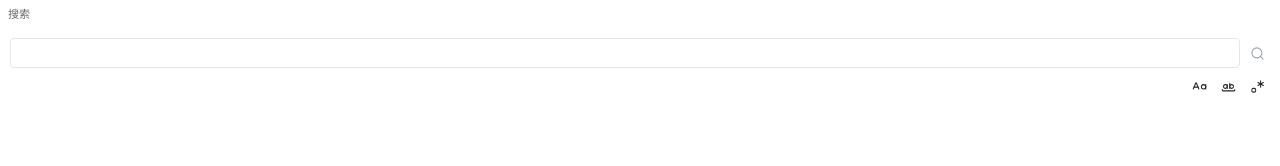
Scenario: shows a partial search when large files are excluded and rejects invalid regular expressions
In the field named "搜索工作区内容": point(625, 53) [10, 38, 1240, 68], type "needle"
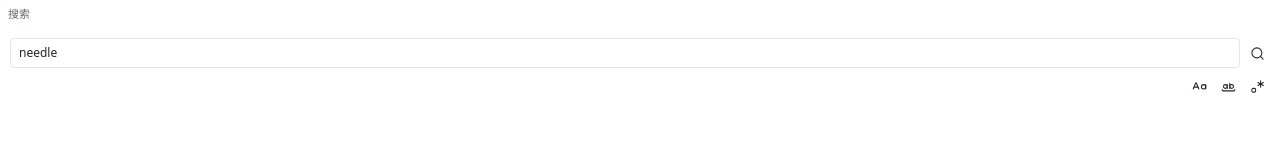
Click the button named "搜索": point(1257, 53) [1244, 40, 1270, 66]
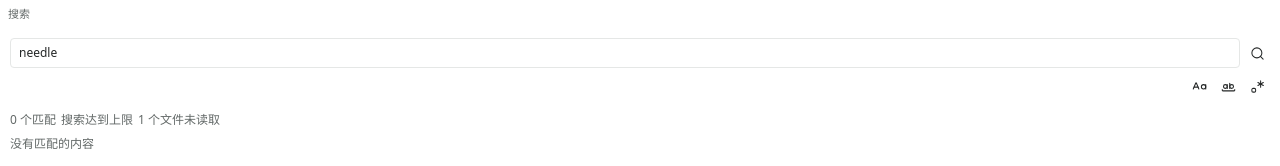
Now the text "1 个文件未读取" is shown, box [138, 110, 220, 129]
Click the button named "正则表达式": point(1257, 86) [1244, 73, 1270, 99]
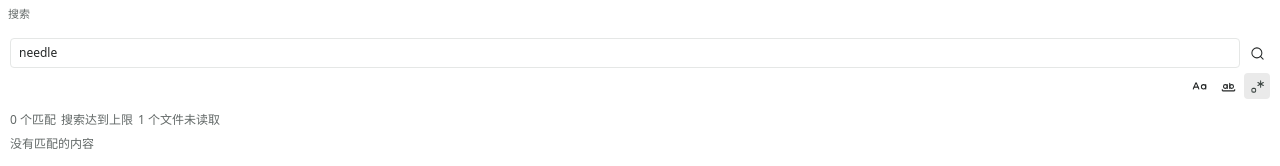
Replace the text in the field named "搜索工作区内容" with "[": point(625, 53) [10, 38, 1240, 68]
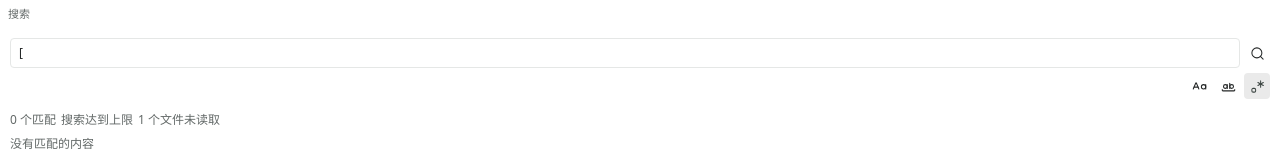
Click the button named "搜索": point(1257, 53) [1244, 40, 1270, 66]
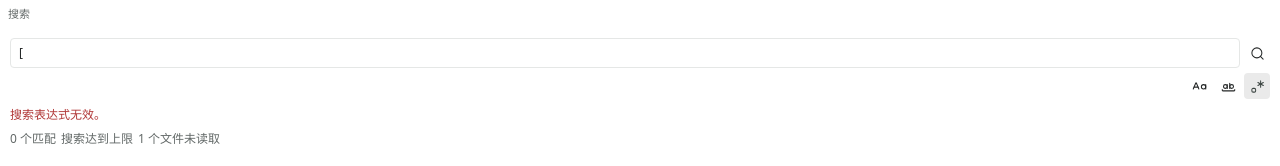
Now the message "搜索表达式无效。" is shown, box [10, 106, 106, 123]
